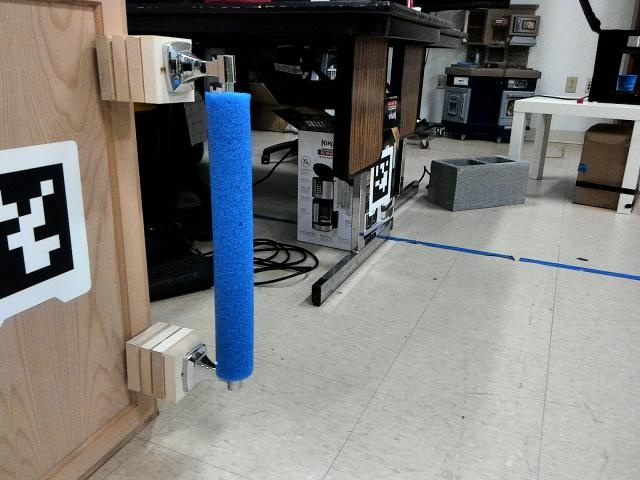noodle_handle: (191, 74, 263, 383)
